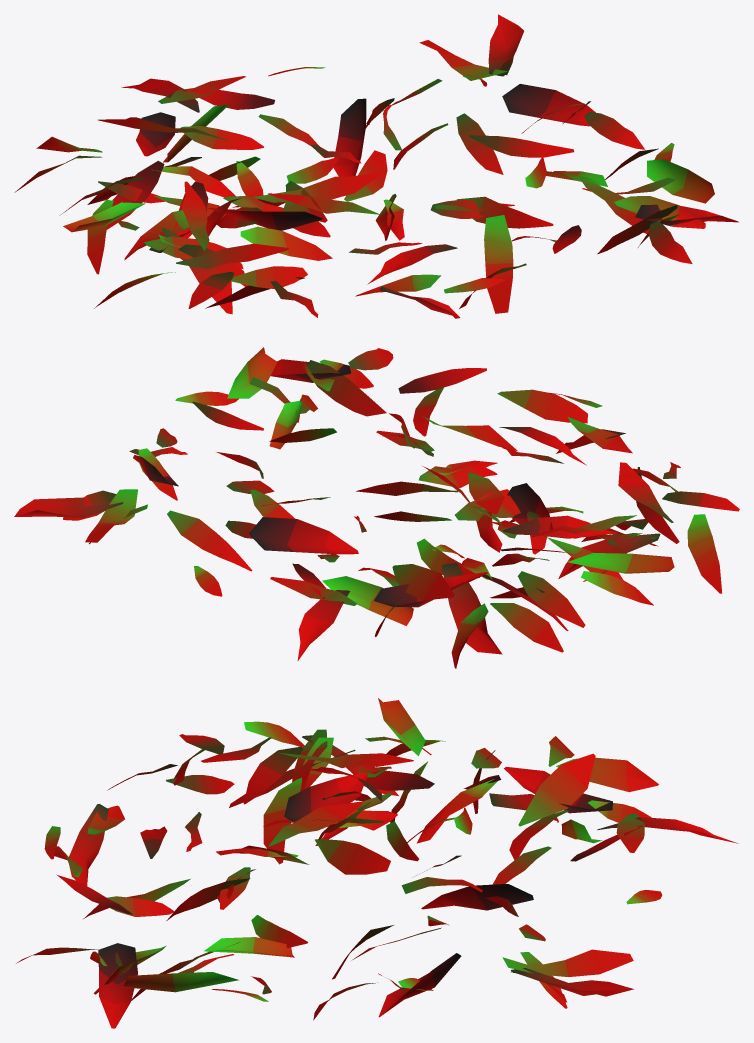
File: Var2_LOD1.fbx
The picture shows the model from 3 angles, top to bottom: view 1: azimuth 30°, elevation 25°; view 2: azimuth 150°, elevation 25°; view 3: azimuth 270°, elevation 25°; orthographic projection. The views are drawn at different scales.
Visible parts, largest first — view 1: _9528_Var2_LOD1; view 2: _9528_Var2_LOD1; view 3: _9528_Var2_LOD1.
Boxes of the visible parts, left/top/right/bottom form: _9528_Var2_LOD1: left=14, top=14, right=738, bottom=318; _9528_Var2_LOD1: left=14, top=347, right=739, bottom=668; _9528_Var2_LOD1: left=16, top=698, right=738, bottom=1028.
Bounding box in the file's own units: 64.19 × 7.75 × 65.72.
